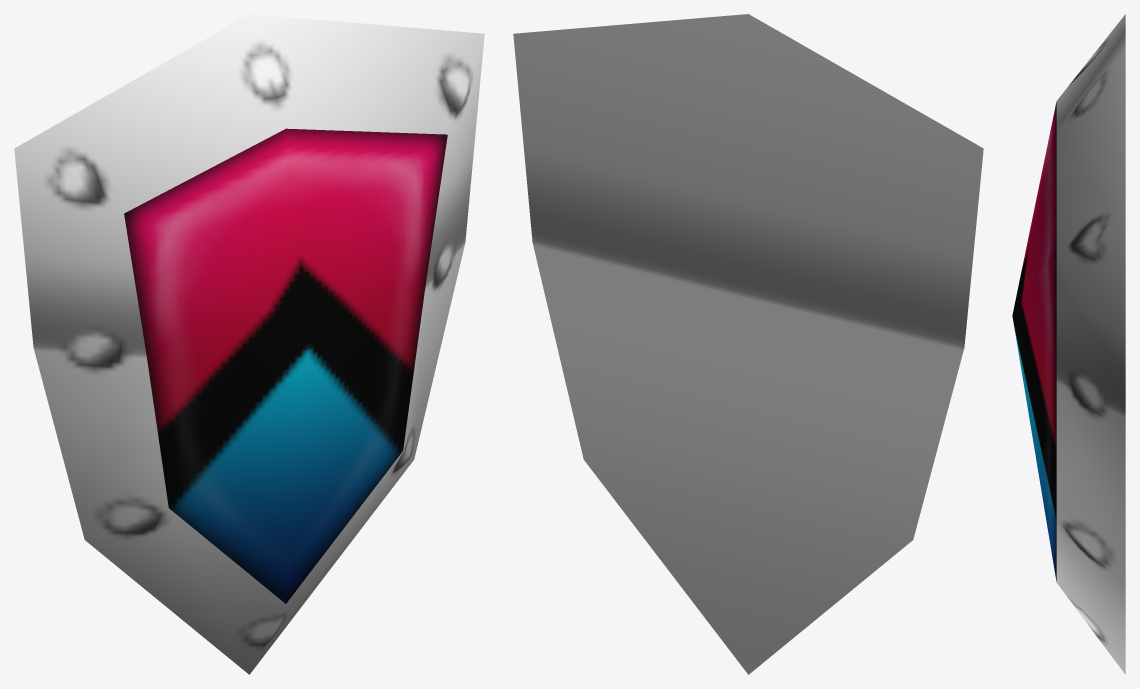
File: shield.FBX
3 views of the same model, side by side, from view 1: azimuth 30°, elevation 25°; view 2: azimuth 150°, elevation 25°; view 3: azimuth 270°, elevation 25° (orthographic). The views are drawn at different scales.
Visible parts, largest first — view 1: shieldw; view 2: shieldw; view 3: shieldw.
Boxes of the visible parts, x1,y1,x2,y2 form: shieldw: [14, 14, 484, 674]; shieldw: [513, 14, 983, 674]; shieldw: [1012, 14, 1125, 674].
Size of the model in its own units: 63.62 by 85.42 by 14.01.
